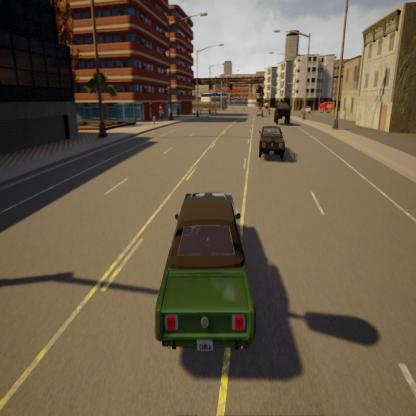Cars: (154, 190, 258, 364), (260, 125, 284, 160), (273, 98, 290, 125)
Pedestrian: (158, 101, 164, 121), (151, 112, 156, 126)
